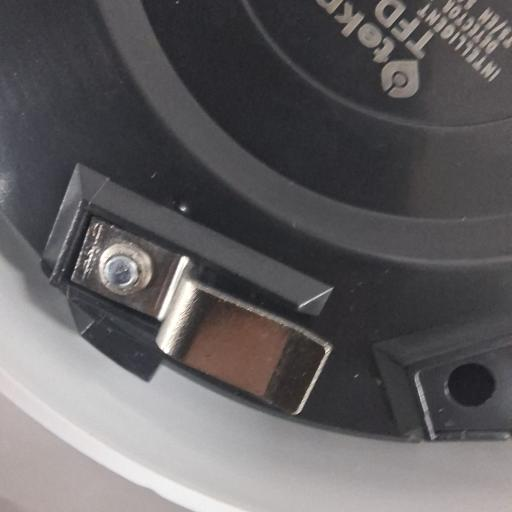yaysiz: (68, 212, 344, 426)
